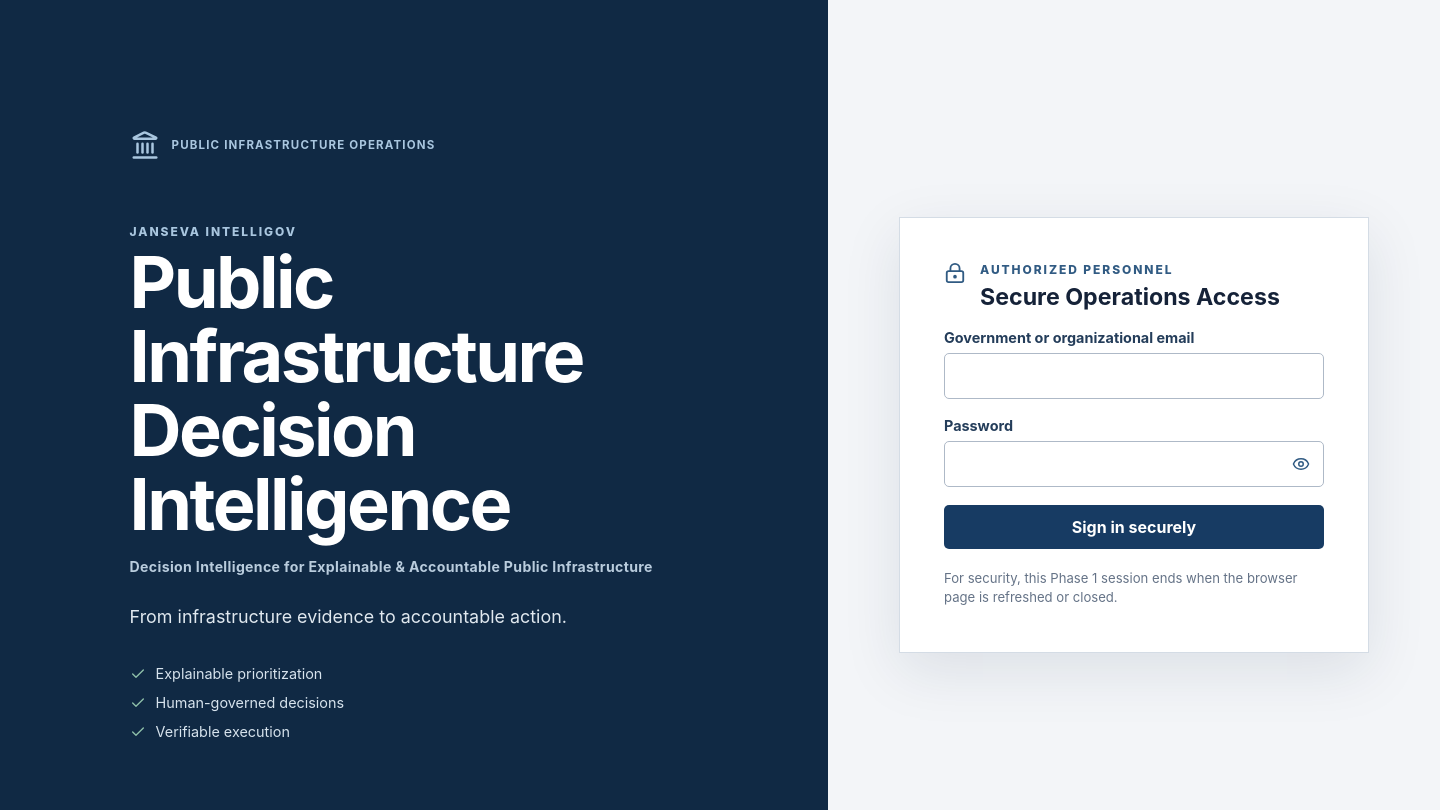
Test: Login page › maps HTTP 401 safely
The width and height of the screenshot is (1440, 810).
Type "user@test" into the field labelled "Government or organizational email". click: (1134, 376)
box: left=944, top=353, right=1324, bottom=399
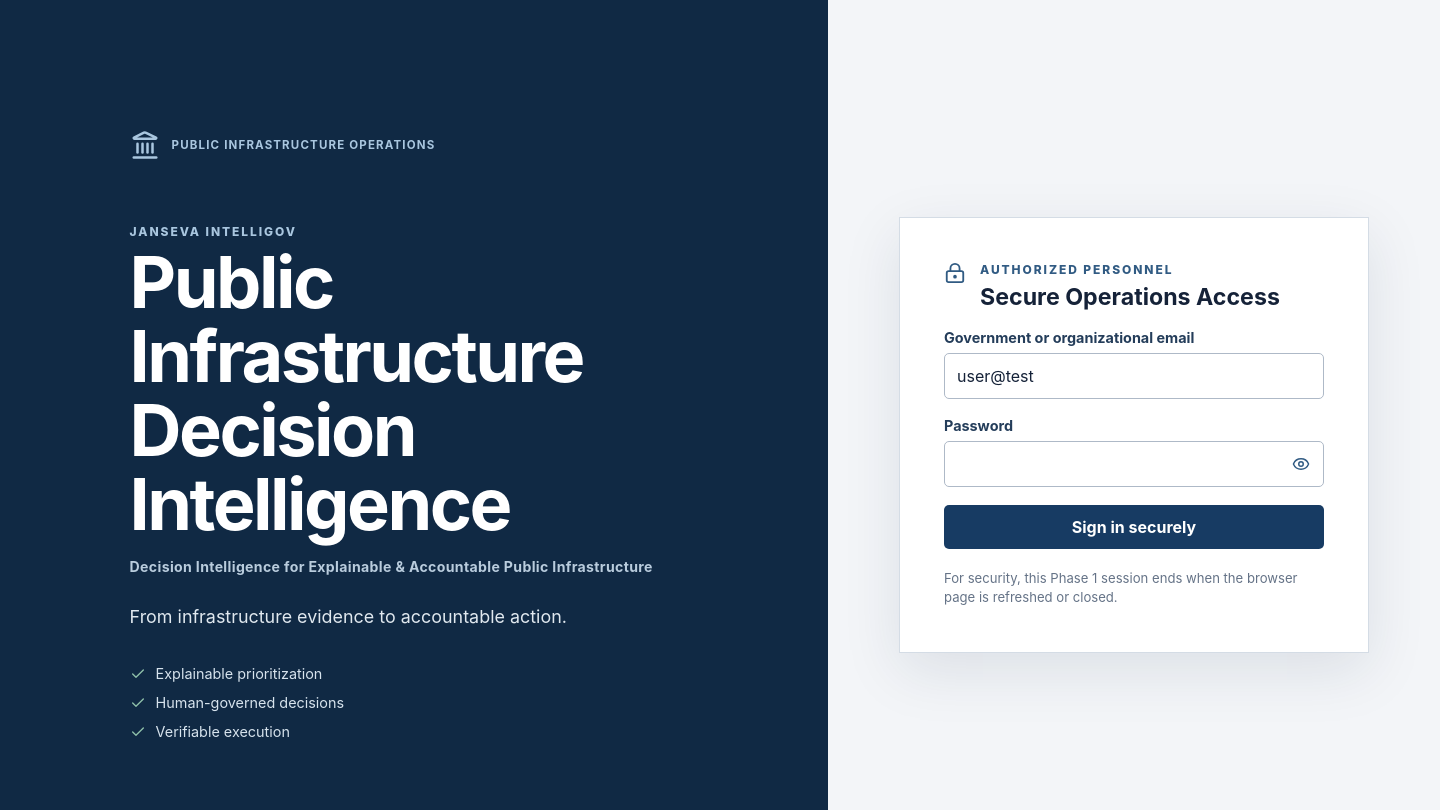
Type "password" into the password field labelled "Password". click: (1134, 464)
box: left=944, top=441, right=1324, bottom=487
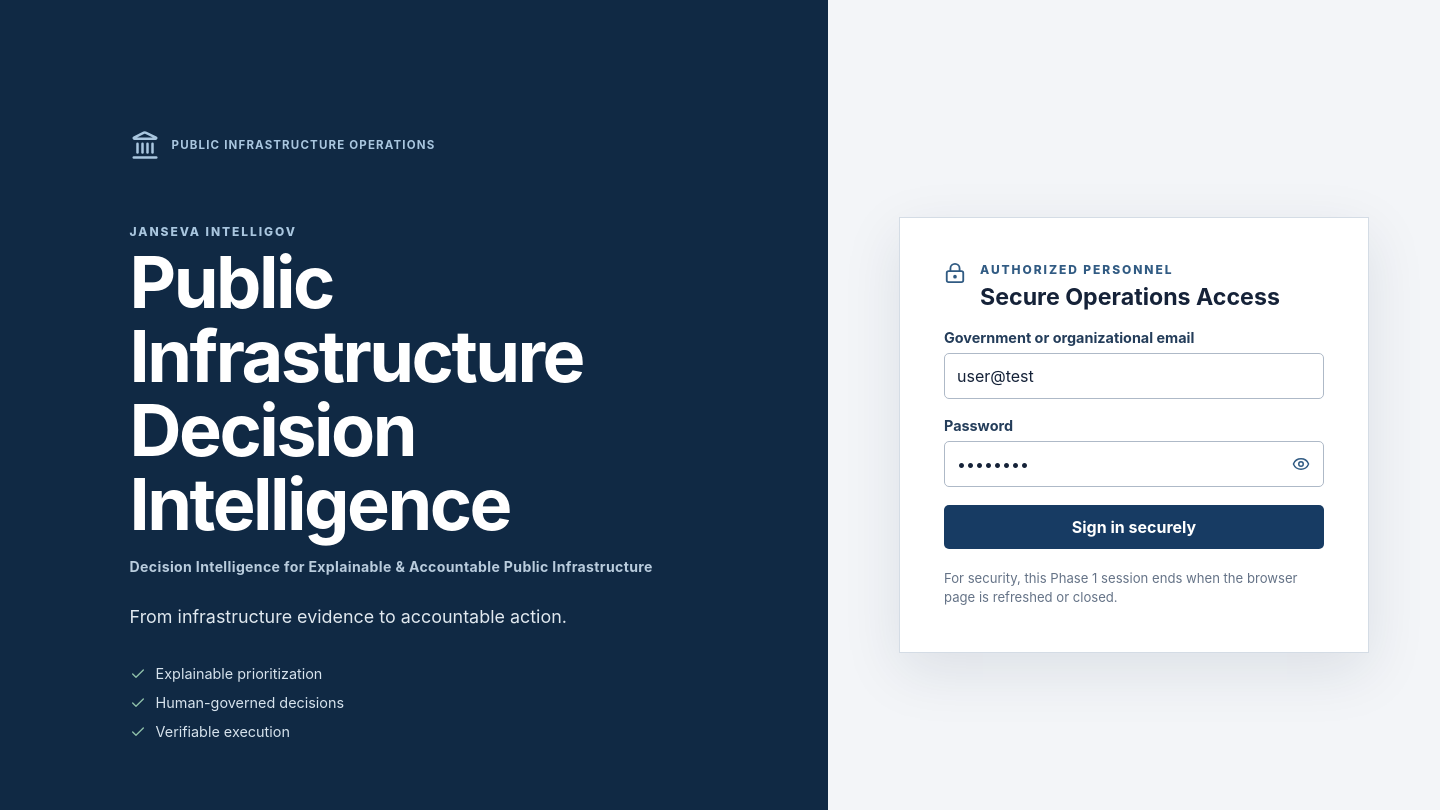
Click the button "Sign in securely". click: (1134, 527)
box: left=944, top=505, right=1324, bottom=549
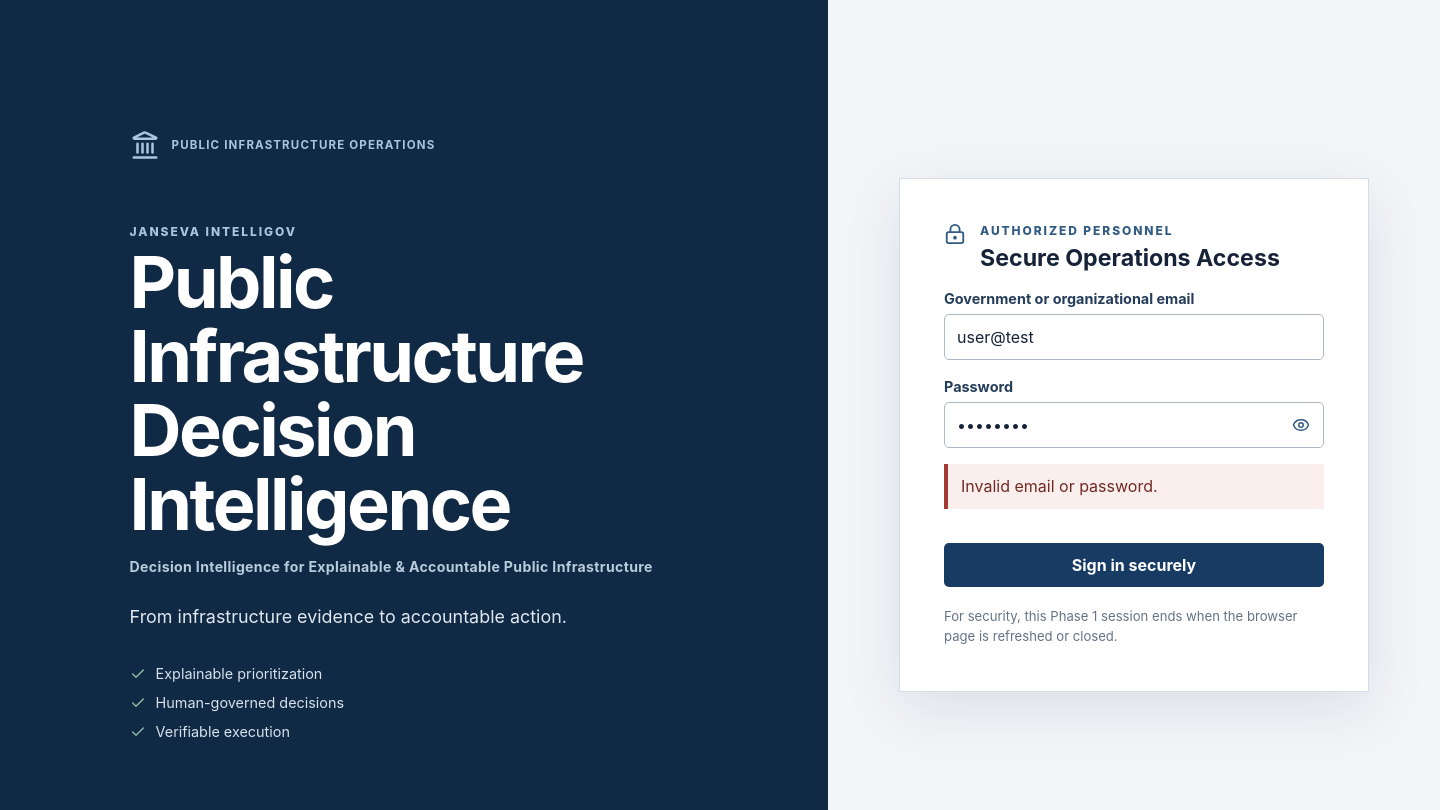
Expected: the text "Invalid email or password." is shown, left=944, top=464, right=1324, bottom=509
